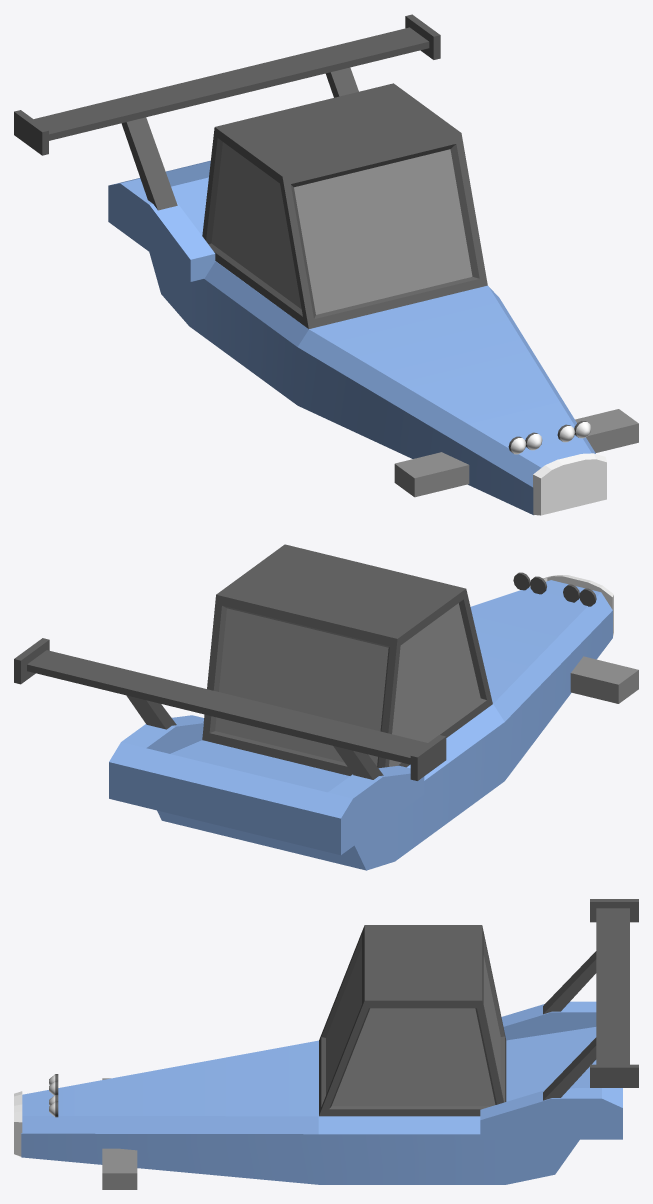
File: car_4.FBX
The picture shows the model from 3 angles, top to bottom: view 1: azimuth 30°, elevation 25°; view 2: azimuth 150°, elevation 25°; view 3: azimuth 270°, elevation 25°; orthographic projection. The views are drawn at different scales.
Visible parts, largest first — view 1: car_4; view 2: car_4; view 3: car_4.
Part boxes in pixels (x1,y1,x2,y2): car_4: [14, 14, 638, 515]; car_4: [14, 544, 638, 870]; car_4: [14, 899, 638, 1189].
Bounding box in the file's own units: 4.16 × 2.06 × 6.52.
